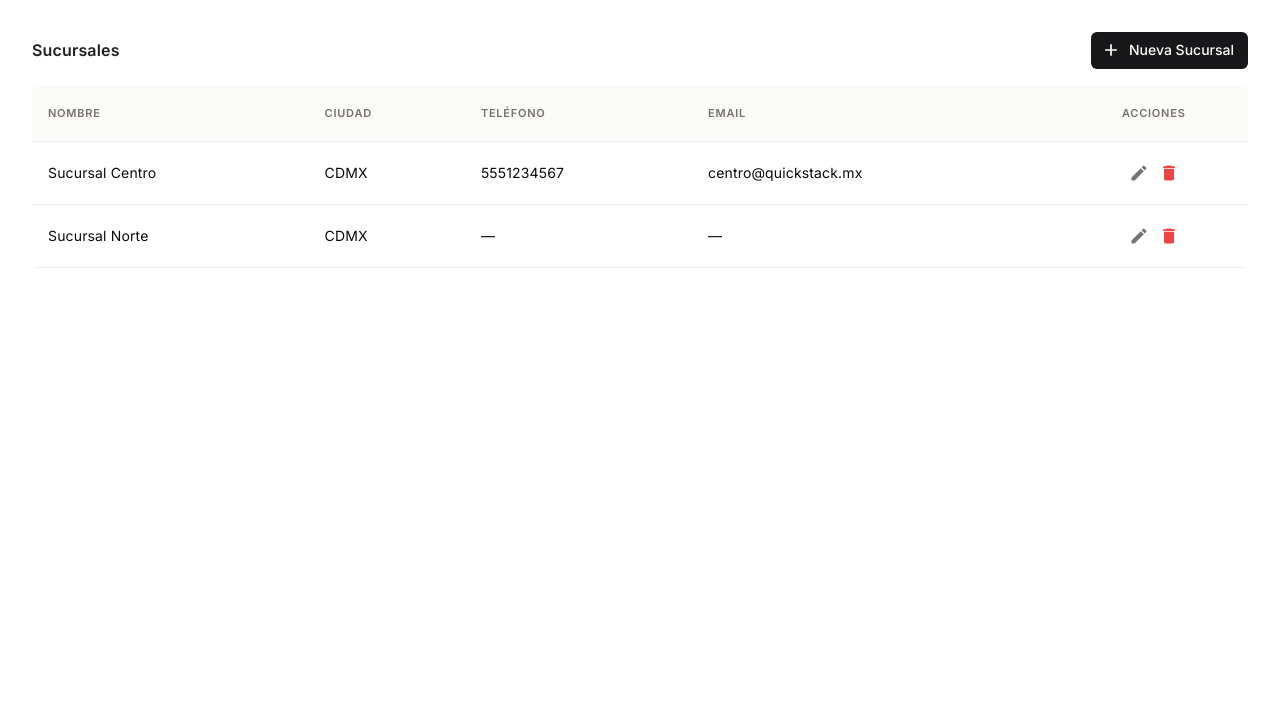
Test: BranchList › shows delete confirmation when delete is clicked
expect the text "Sucursal Centro" is shown: met, box [32,141,308,204]
Click the button named "eliminar Sucursal Centro".
click(1169, 172)  # box [1154,158,1184,188]
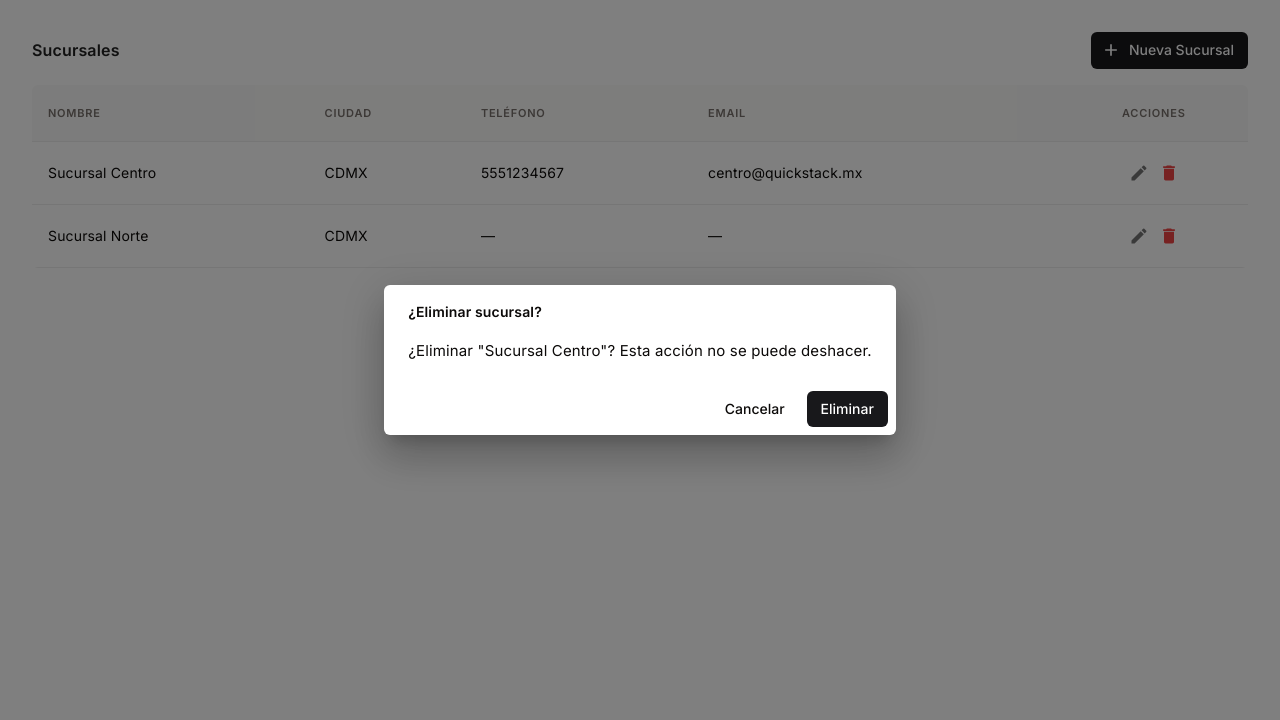
expect the dialog is shown: met, box [384,284,896,435]
expect the heading "¿Eliminar sucursal?" is shown: met, box [408,302,542,320]
